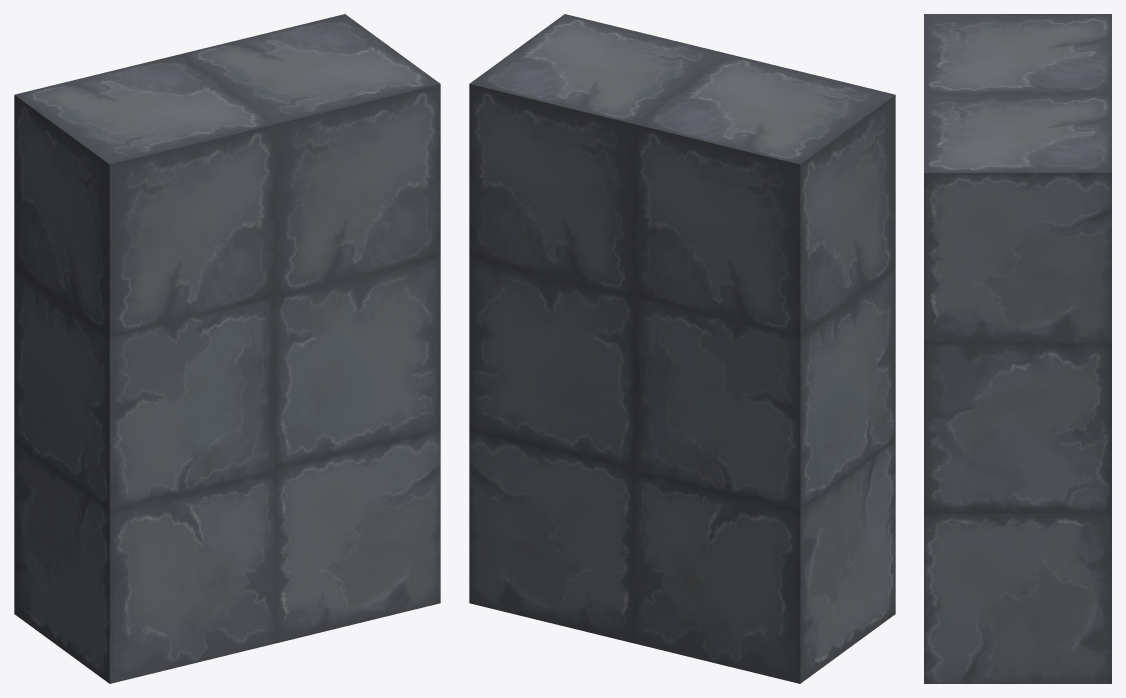
The model's file is Castle Block 2x3.fbx.
The picture shows the model from 3 angles, left to right: view 1: azimuth 30°, elevation 25°; view 2: azimuth 150°, elevation 25°; view 3: azimuth 270°, elevation 25°; orthographic projection.
Visible parts, largest first — view 1: Castle Block 2x3; view 2: Castle Block 2x3; view 3: Castle Block 2x3.
Part boxes in pixels (x1,y1,x2,y2): Castle Block 2x3: (14,14,440,683); Castle Block 2x3: (469,14,895,683); Castle Block 2x3: (924,14,1111,683).
Size of the model in its own units: 1.5 by 2.25 by 0.75.
